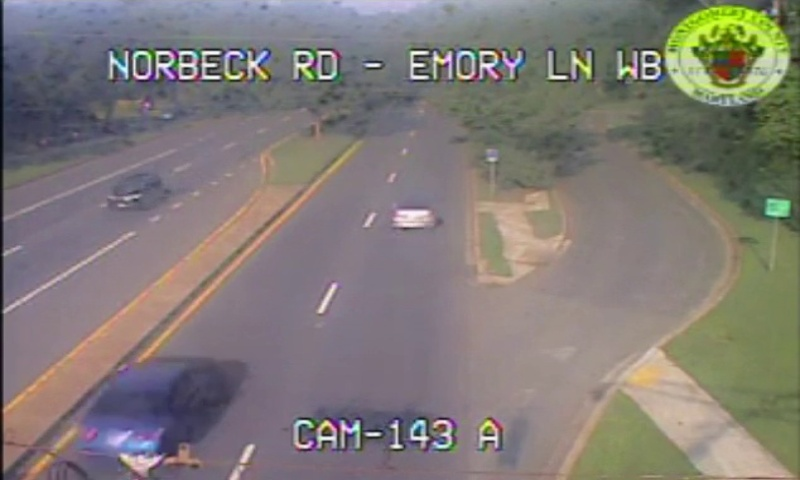car: (76, 361, 217, 447), (389, 205, 437, 229)
